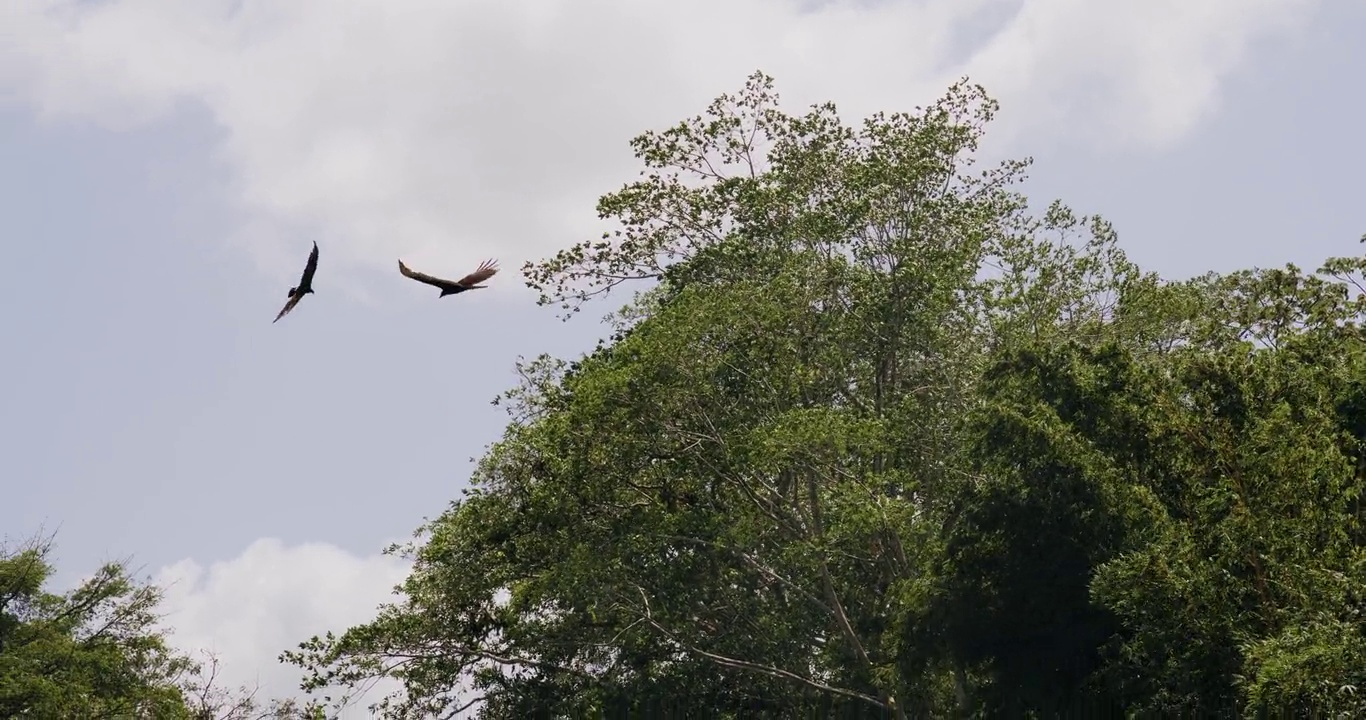bird: (396, 259, 498, 298), (273, 238, 318, 324)
